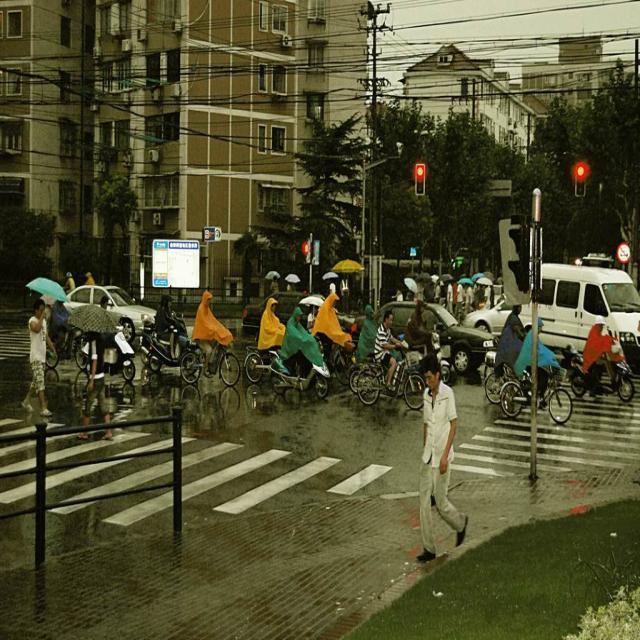traffic light: (414, 162, 425, 198), (575, 163, 586, 196)
